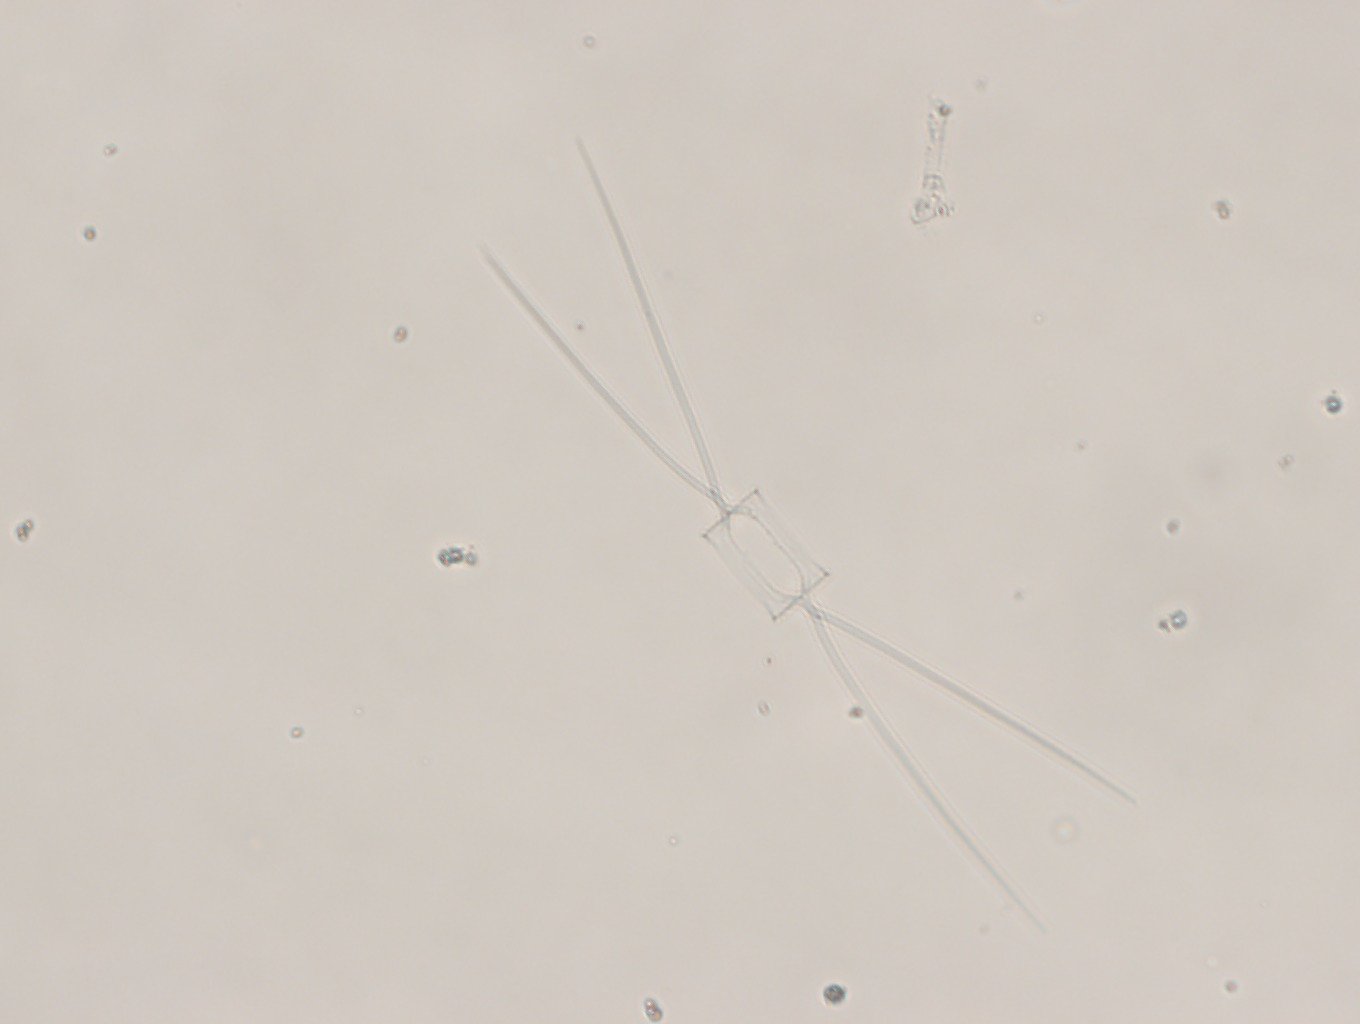chaetoceros: (467, 120, 1139, 929)
